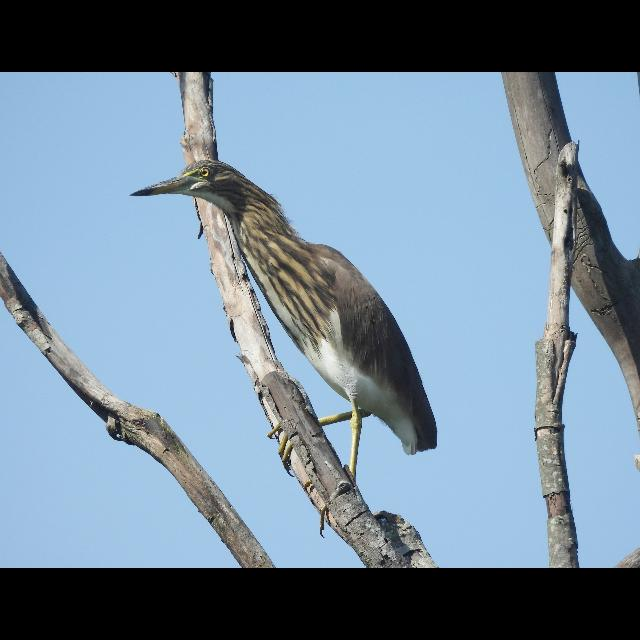heron: (124, 152, 452, 504)
